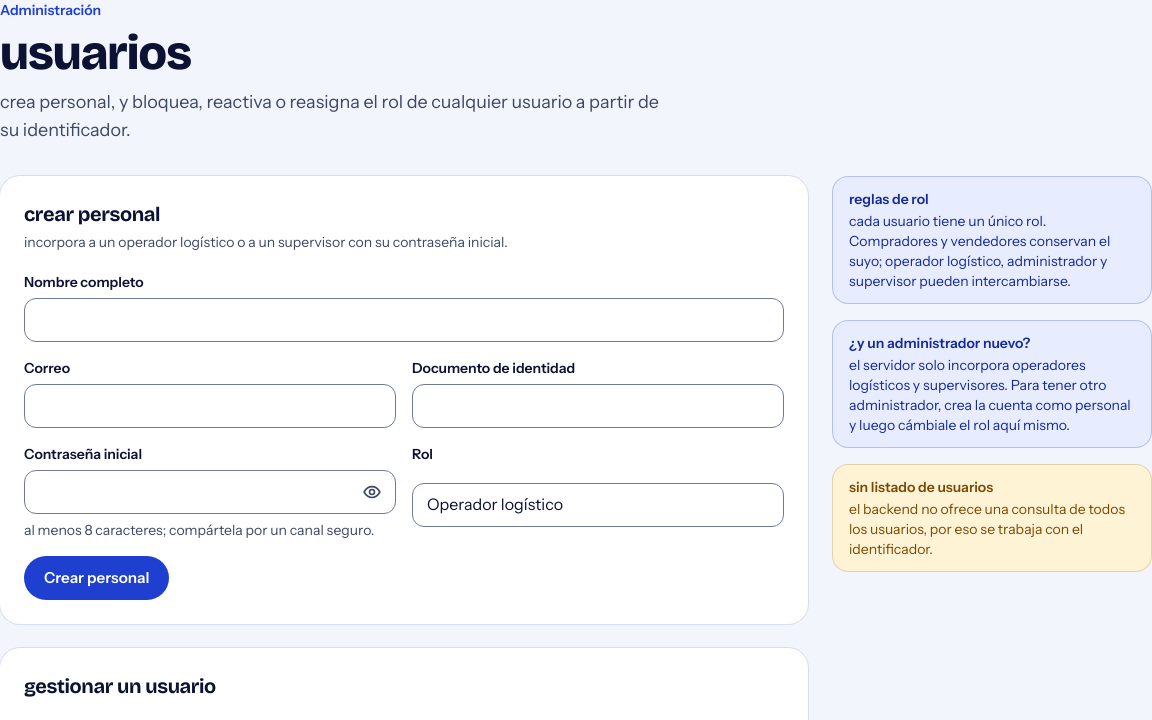
Test case: create staff › creates the account with an identifier generated here and the chosen role
In the field labelled "Nombre completo": (404, 320) [24,298,784,342], type "Laura Operaria"
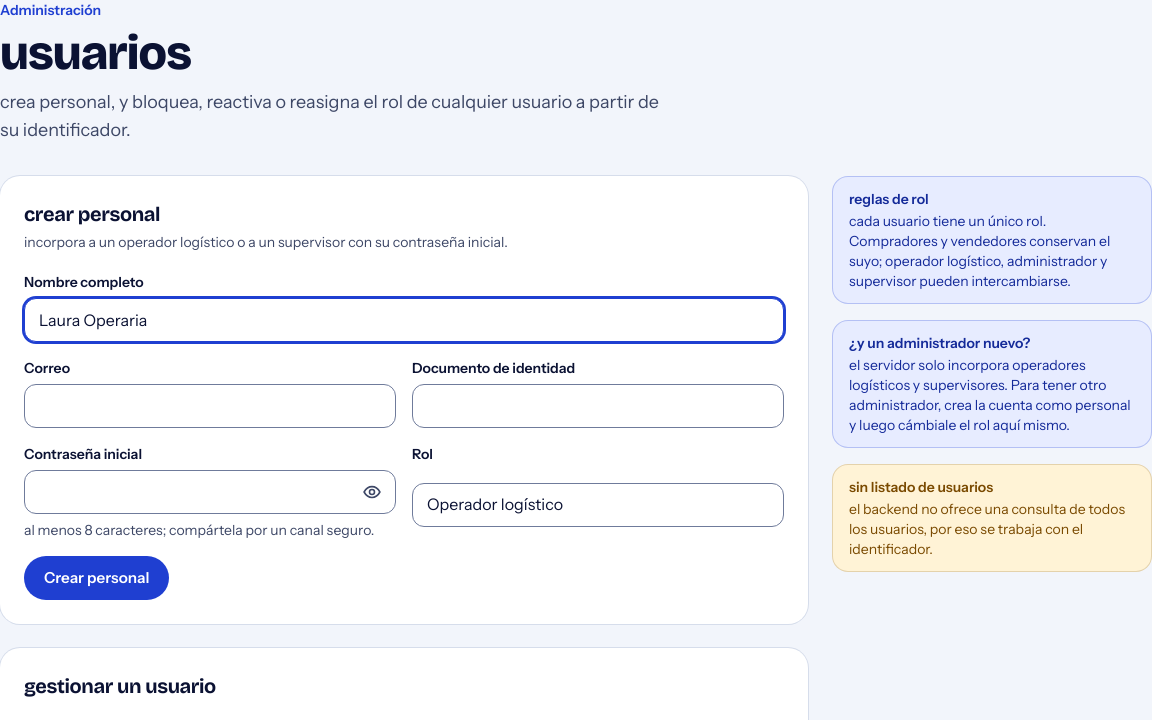
In the field labelled "Correo": (210, 406) [24,384,396,428], type "laura@nexusmarket.local"
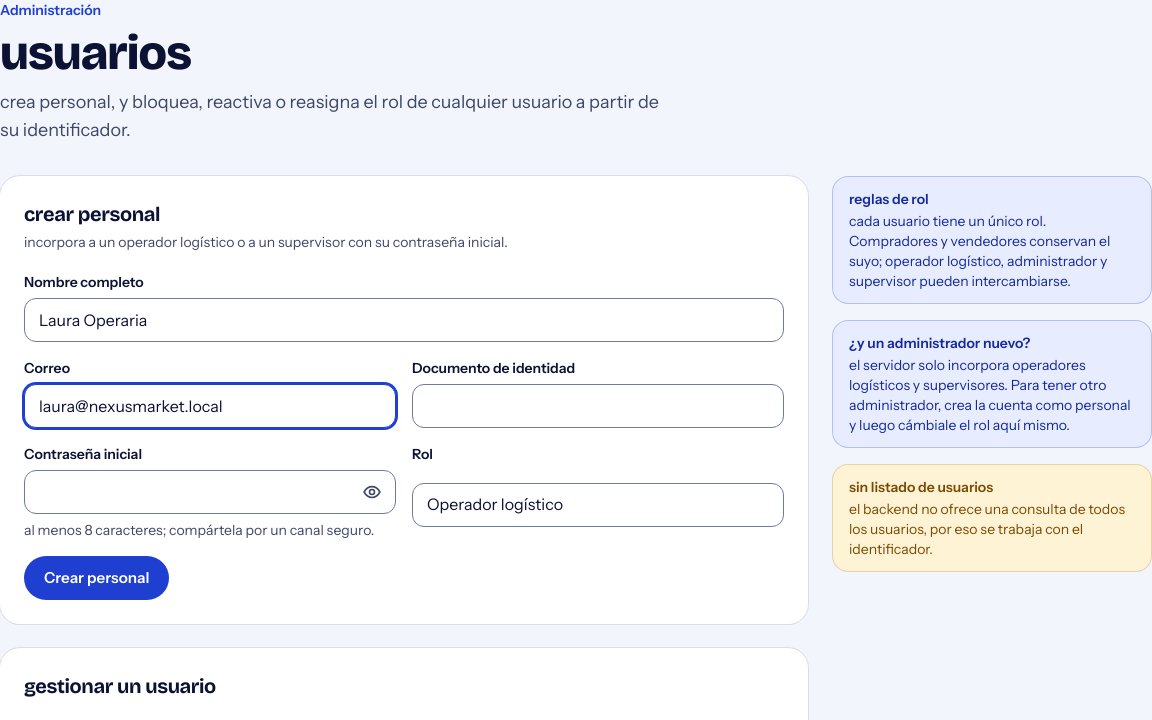
In the field labelled "Documento de identidad": (598, 406) [412,384,784,428], type "1020304050"
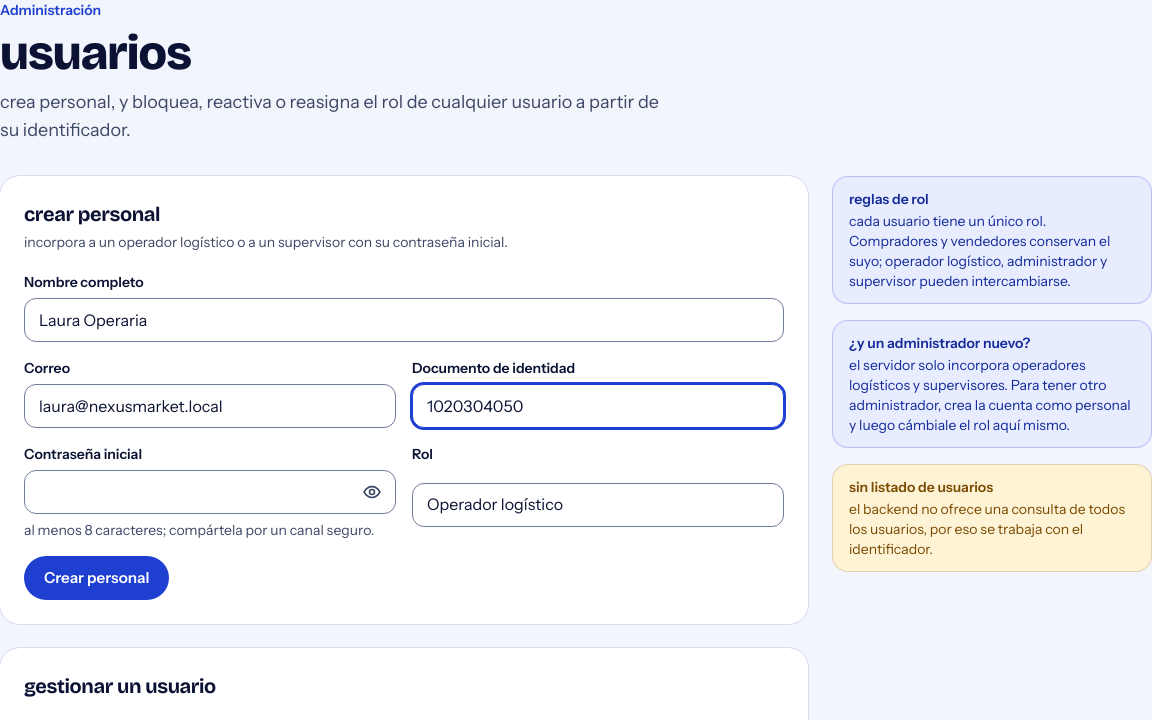
In the password field labelled "Contraseña inicial": (210, 492) [24,470,396,514], type "Bodega2026"
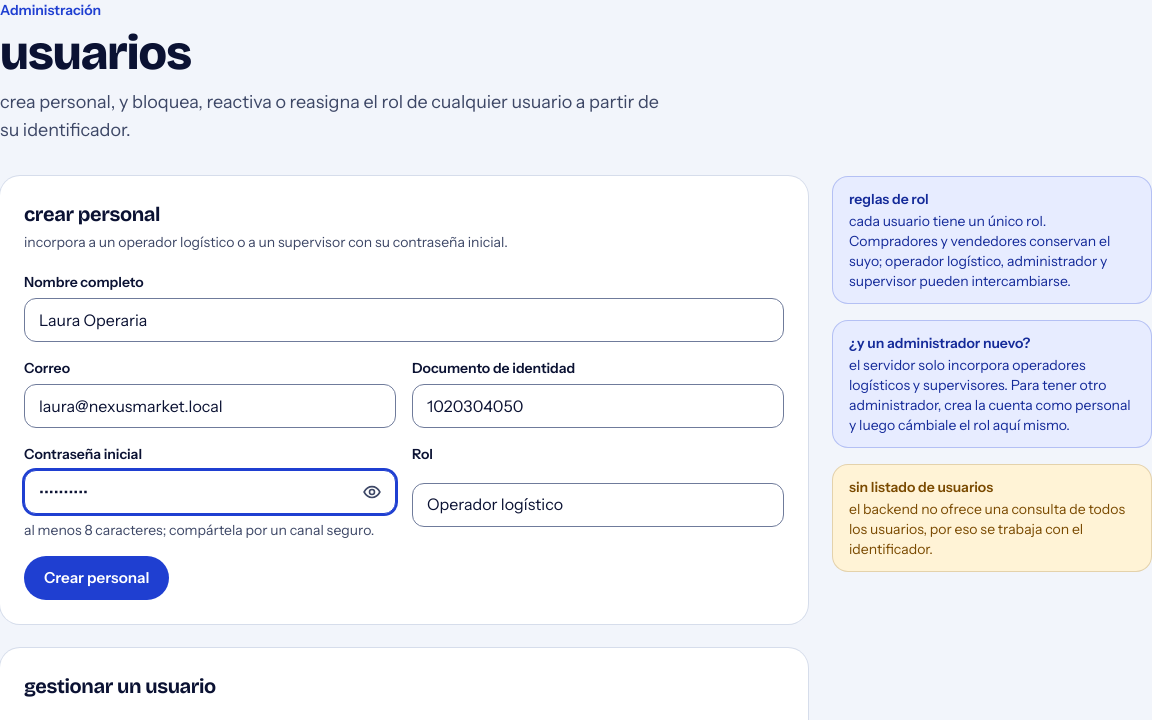
Select "Supervisor" in the dropdown labelled "Rol": (598, 505) [412,483,784,527]
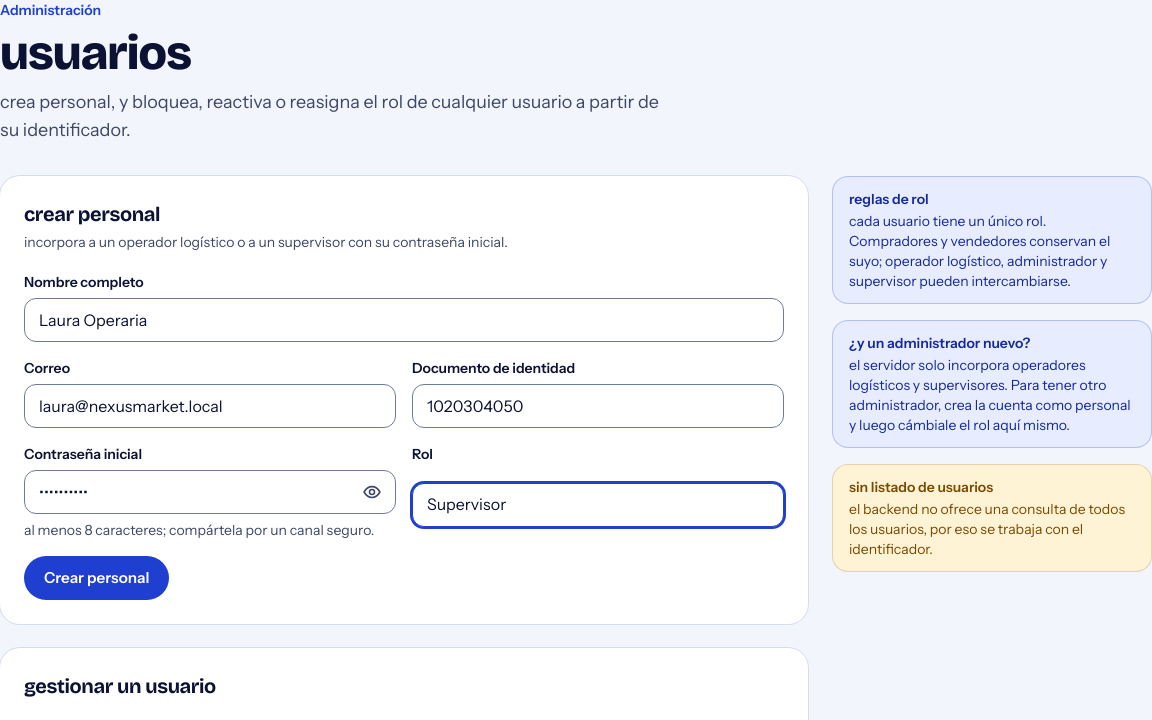
Click the button "Crear personal": click(97, 578) [24,556,169,600]
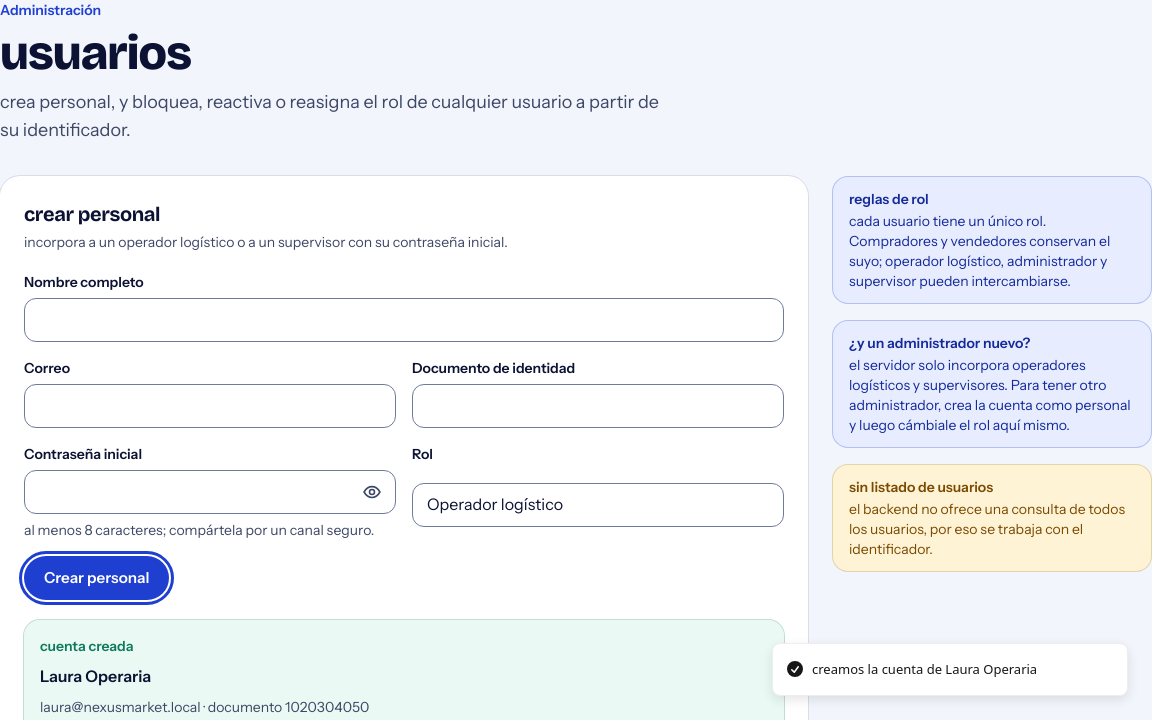
Result: the element with test id "staff-created" shows "Laura Operaria" at [40,666,151,686]
Result: the field labelled "Nombre completo" is empty at [24,298,784,342]
